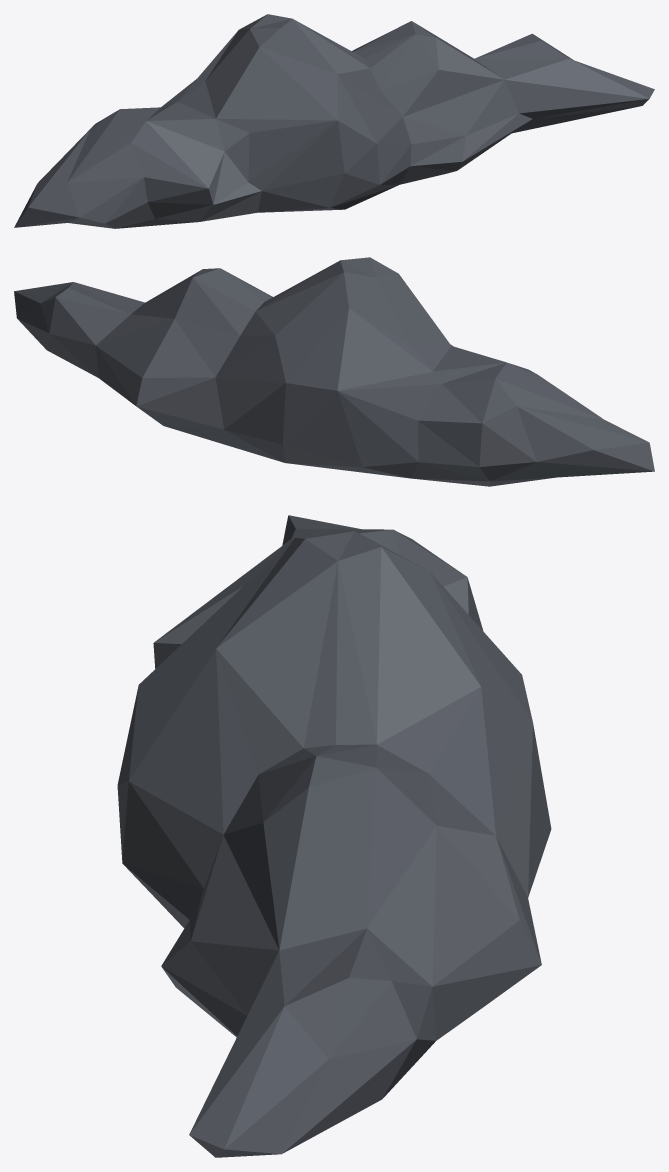
The model's file is WF_LP_HT_Environment_Cloud.001.fbx.
The picture shows the model from 3 angles, top to bottom: view 1: azimuth 30°, elevation 25°; view 2: azimuth 150°, elevation 25°; view 3: azimuth 270°, elevation 25°; orthographic projection. The views are drawn at different scales.
Visible parts, largest first — view 1: WF_LP_HT_Environment_Cloud.001; view 2: WF_LP_HT_Environment_Cloud.001; view 3: WF_LP_HT_Environment_Cloud.001.
Boxes of the visible parts, bbox=[...] form: WF_LP_HT_Environment_Cloud.001: bbox=[14, 14, 654, 228]; WF_LP_HT_Environment_Cloud.001: bbox=[14, 257, 654, 486]; WF_LP_HT_Environment_Cloud.001: bbox=[117, 515, 551, 1157].
Bounding box in the file's own units: 10.23 × 2.76 × 3.1.
